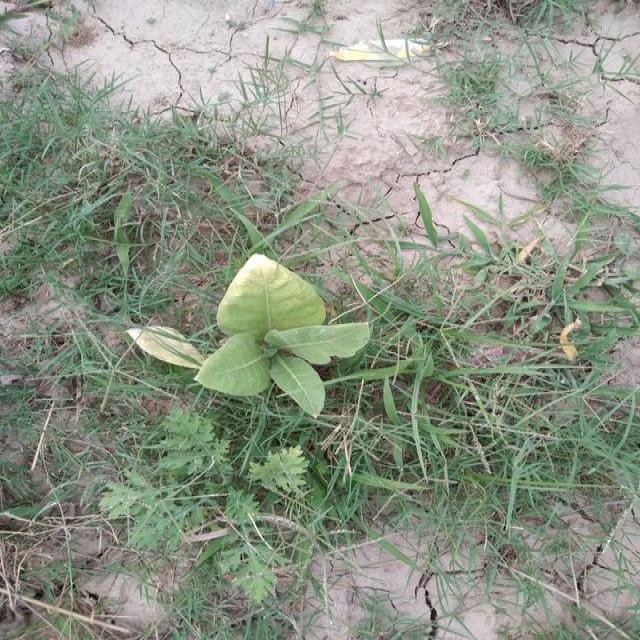crop: (129, 247, 380, 429)
